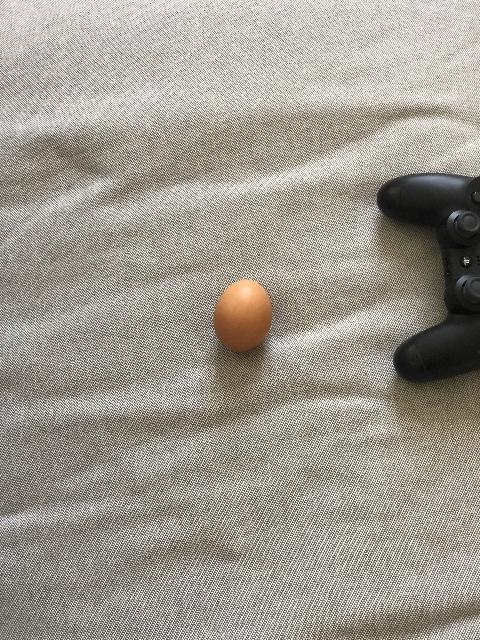Sano: (213, 278, 273, 353)
